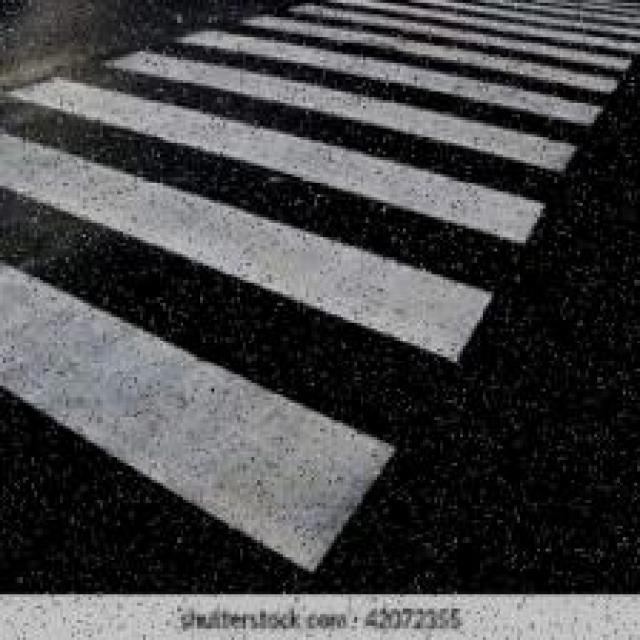crosswalk: (0, 0, 640, 590)
